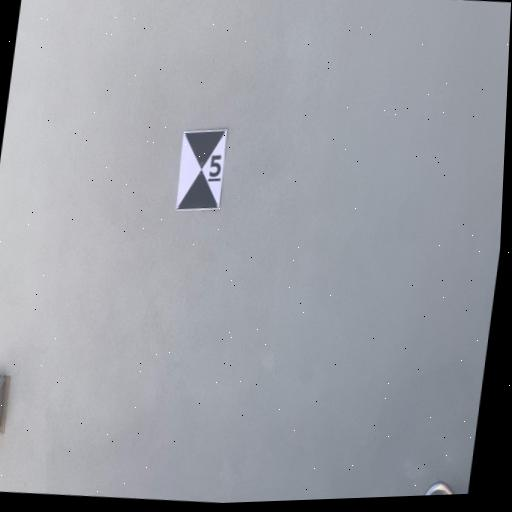target5: (175, 127, 231, 210)
